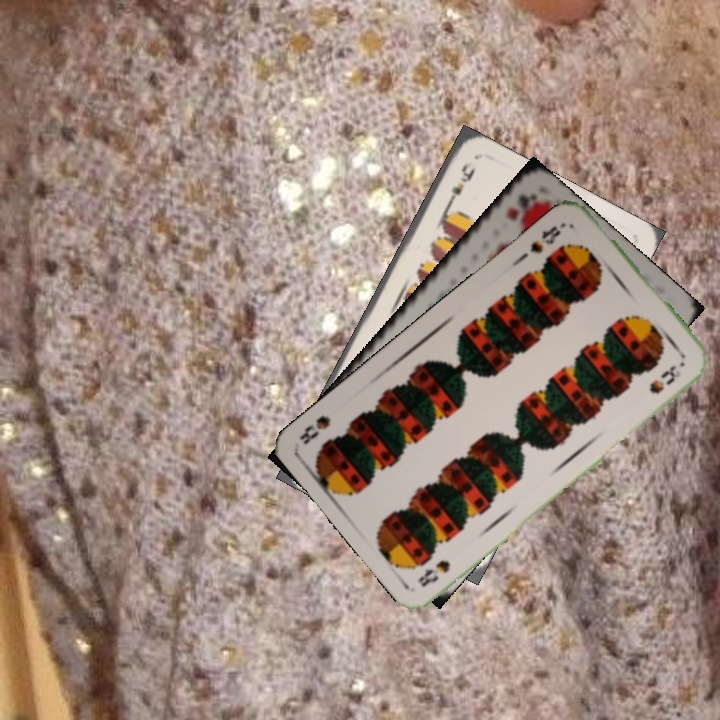E9: (442, 157, 478, 212)
HK: (501, 189, 540, 223)
S8: (526, 218, 568, 256), (413, 556, 453, 590)
